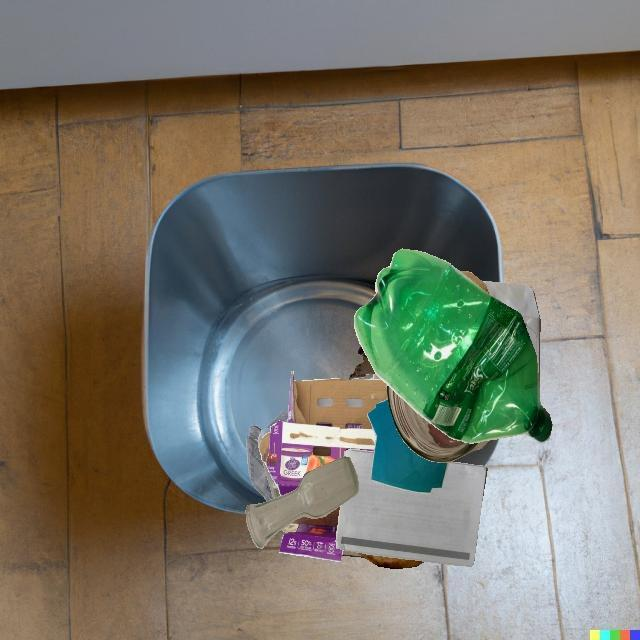biowaste: (356, 552, 424, 569), (459, 271, 489, 294)
cardboard: (259, 371, 388, 496), (349, 346, 376, 379)
glass: (245, 456, 359, 548), (387, 384, 490, 462)
paper: (335, 448, 488, 566), (367, 399, 449, 493), (481, 280, 540, 391), (342, 550, 365, 558)
plastic: (354, 248, 552, 444), (270, 379, 369, 529), (258, 429, 295, 531), (246, 439, 273, 501)
